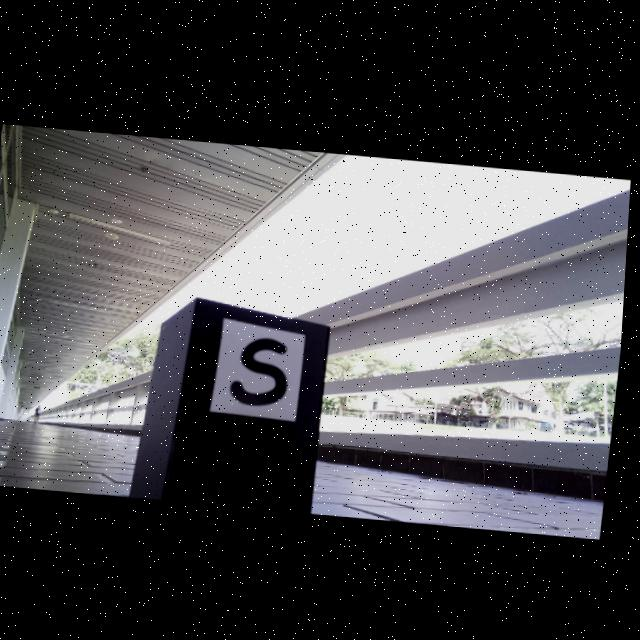S: (233, 336, 293, 404)
